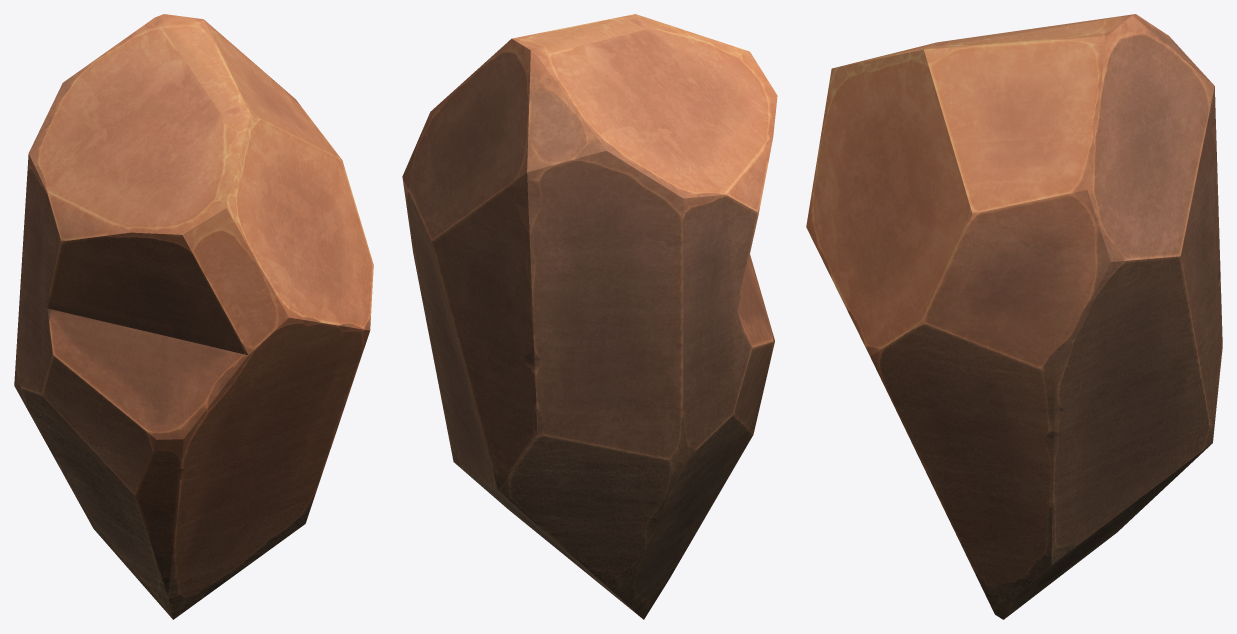
The model's file is L_rocks_01.glb.
3 renders of one model, left to right at view 1: azimuth 30°, elevation 25°; view 2: azimuth 150°, elevation 25°; view 3: azimuth 270°, elevation 25°, orthographic. The views are drawn at different scales.
Parts seen in each view (by area): view 1: L_Rock_01; view 2: L_Rock_01; view 3: L_Rock_01.
Part boxes in pixels (x1,y1,x2,y2): L_Rock_01: (14, 14, 373, 619); L_Rock_01: (402, 14, 777, 619); L_Rock_01: (806, 14, 1222, 619).
Bounding box in the file's own units: 1.48 × 2.61 × 1.56.
Materials: 1 (1 with a texture image).
